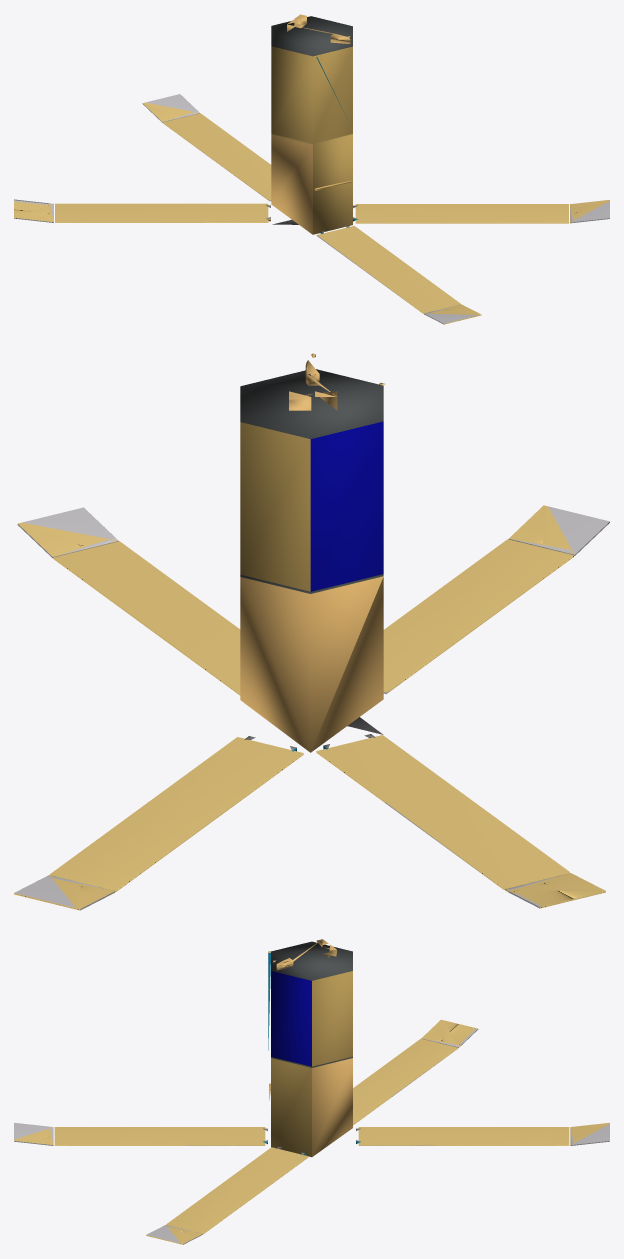
The model's file is seastar.glb.
3 renders of one model, top to bottom at view 1: azimuth 30°, elevation 25°; view 2: azimuth 150°, elevation 25°; view 3: azimuth 270°, elevation 25°, orthographic. The views are drawn at different scales.
Parts seen in each view (by area): view 1: Fake; view 2: Fake; view 3: Fake.
Part boxes in pixels (x1,y1,x2,y2): Fake: (14, 14, 609, 324); Fake: (14, 353, 609, 910); Fake: (14, 939, 609, 1244).
Bounding box in the file's own units: 195 × 76.66 × 219.
1 material, 1 textured.
